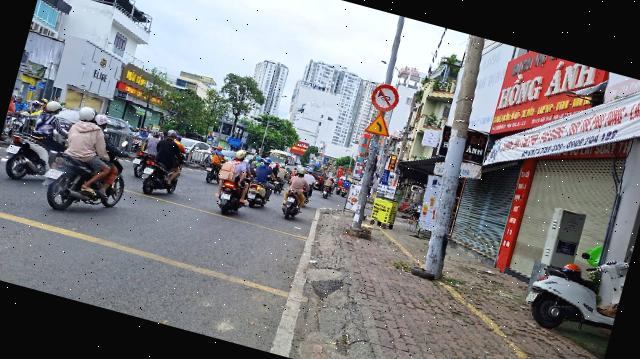cam-bop-coi: (368, 80, 402, 114)
cho-ngoat-nguy-hiem-ben-trai: (364, 109, 394, 137)
